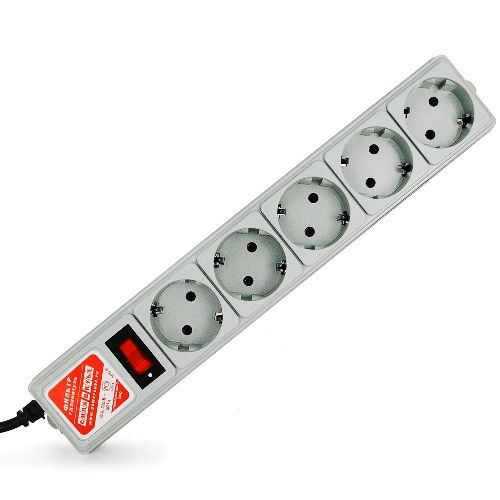raccoon: (150, 271, 223, 356), (275, 172, 352, 250), (212, 229, 288, 301), (340, 128, 415, 200), (403, 75, 475, 150)
